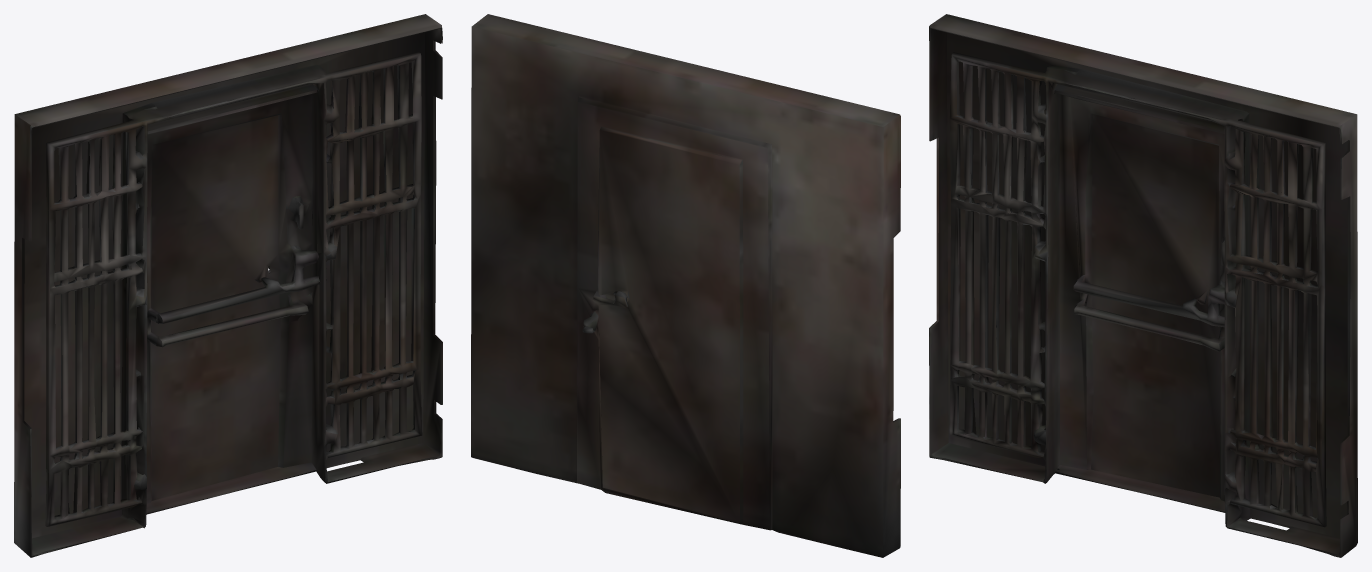
File: sturdy-iron-cell-door-v001.glb
3 views of the same model, side by side, from view 1: azimuth 30°, elevation 25°; view 2: azimuth 150°, elevation 25°; view 3: azimuth 330°, elevation 25° (orthographic).
Visible parts, largest first — view 1: sturdy-iron-cell-door; view 2: sturdy-iron-cell-door; view 3: sturdy-iron-cell-door.
Boxes of the visible parts, x1,y1,x2,y2 form: sturdy-iron-cell-door: [14, 14, 442, 557]; sturdy-iron-cell-door: [471, 14, 900, 557]; sturdy-iron-cell-door: [929, 14, 1357, 557].
Bounding box in the file's own units: 2.03 × 2.03 × 0.3284.
Materials: 1 (1 with a texture image).
